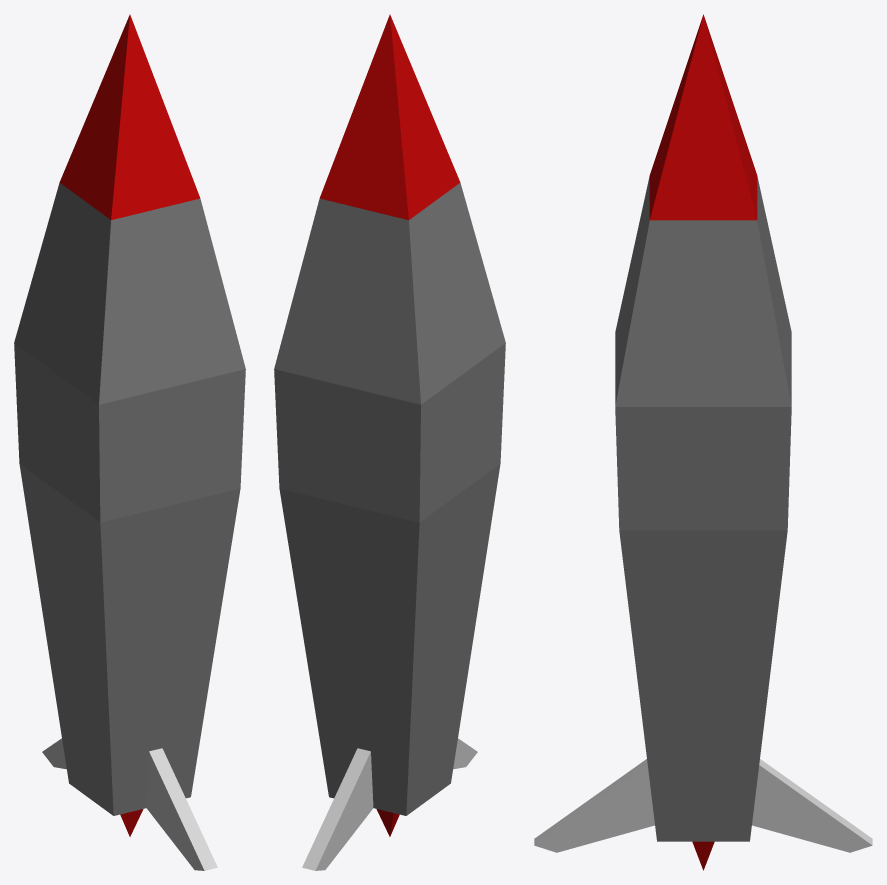
The model's file is rocket.fbx.
3 renders of one model, left to right at view 1: azimuth 30°, elevation 25°; view 2: azimuth 150°, elevation 25°; view 3: azimuth 270°, elevation 25°, orthographic. The views are drawn at different scales.
Visible parts, largest first — view 1: Circle; view 2: Circle; view 3: Circle.
Part boxes in pixels (x1,y1,x2,y2): Circle: (14,14,245,870); Circle: (274,14,505,870); Circle: (534,14,872,870).
Bounding box in the file's own units: 0.1324 × 0.7093 × 0.2539.
